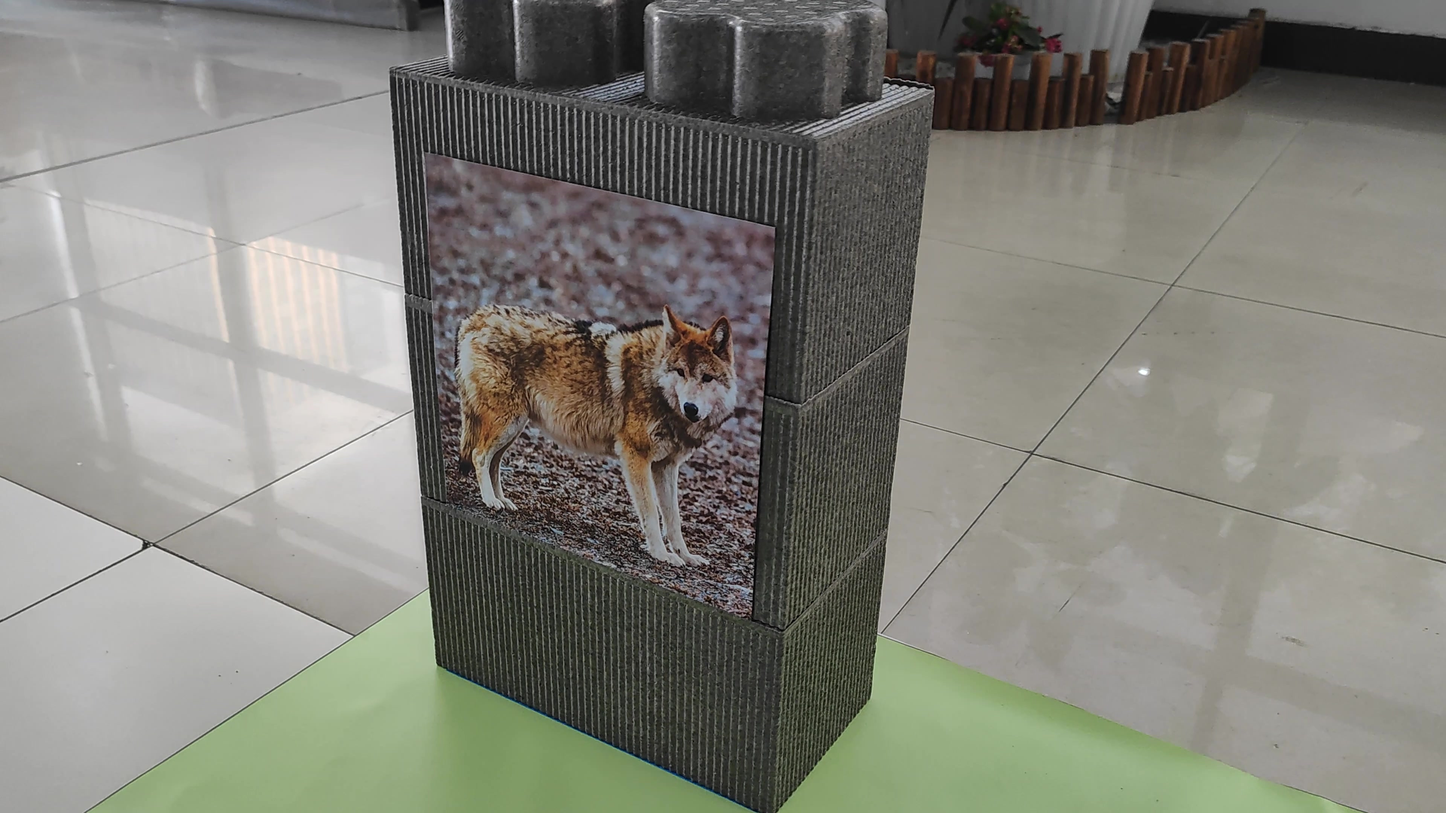wolf: (416, 256, 750, 579)
